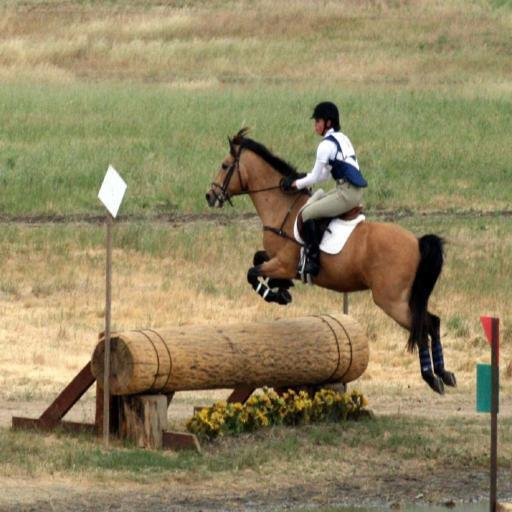horse: (202, 124, 460, 396)
